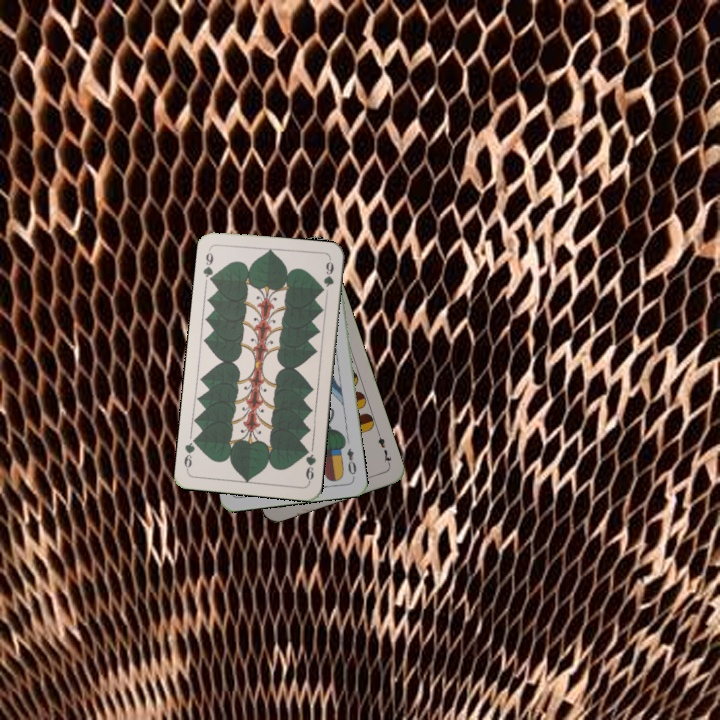E7: (374, 428, 394, 468)
EO: (343, 444, 359, 480)
G9: (301, 444, 319, 485), (199, 245, 217, 286)
